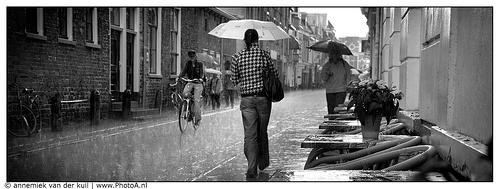non-vehicle: (7, 82, 43, 136), (177, 77, 200, 132), (169, 79, 182, 113)
